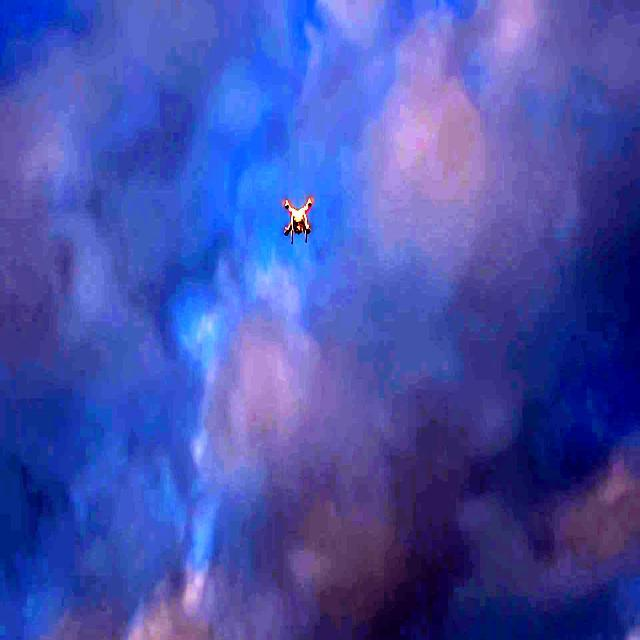drone: (278, 182, 319, 245)
